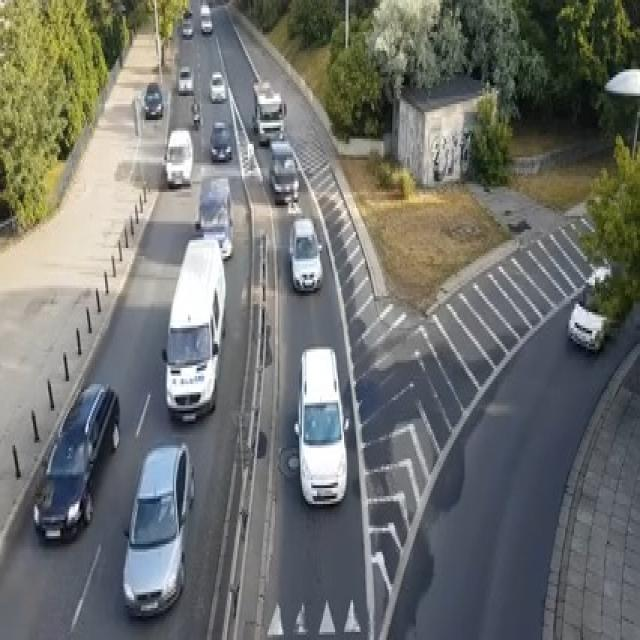bus: (162, 235, 225, 421)
car: (32, 382, 120, 542), (122, 440, 194, 619), (293, 344, 349, 507), (194, 173, 233, 259), (288, 216, 323, 291), (251, 80, 285, 144), (566, 299, 607, 352), (267, 138, 299, 202), (162, 128, 192, 187), (209, 120, 231, 160), (141, 80, 164, 117), (209, 70, 225, 102), (177, 64, 194, 93), (198, 3, 212, 32), (182, 8, 194, 37), (191, 99, 200, 128)
